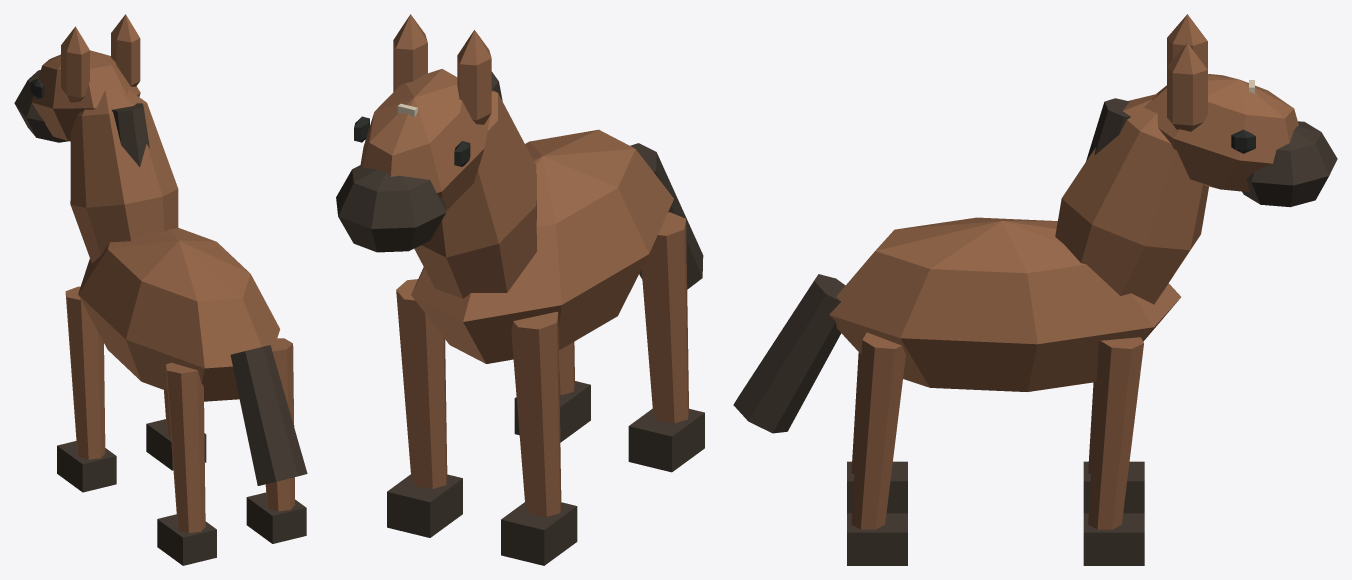
The model's file is Horse.fbx.
3 renders of one model, left to right at view 1: azimuth 30°, elevation 25°; view 2: azimuth 150°, elevation 25°; view 3: azimuth 270°, elevation 25°, orthographic. The views are drawn at different scales.
Visible parts, largest first — view 1: FA_Horse; view 2: FA_Horse; view 3: FA_Horse.
Boxes of the visible parts, x1=… form: FA_Horse: x1=14, y1=14, x2=307, y2=565; FA_Horse: x1=336, y1=14, x2=704, y2=565; FA_Horse: x1=733, y1=14, x2=1337, y2=565.
Size of the model in its own units: 0.765 by 2.27 by 2.48.
